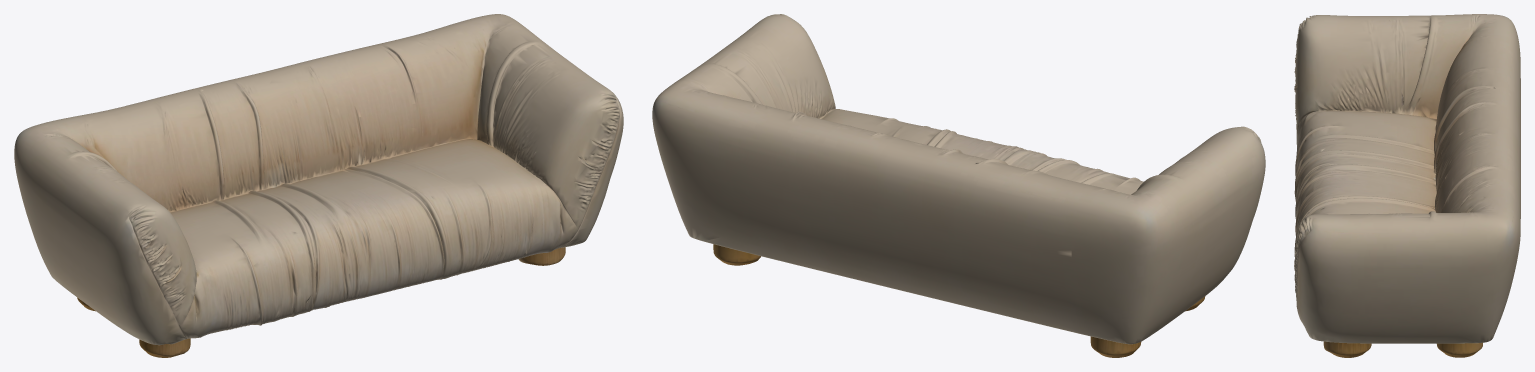
File: 0-cream-pleated-sofa-scaled-opt.glb
3 views of the same model, side by side, from view 1: azimuth 30°, elevation 25°; view 2: azimuth 150°, elevation 25°; view 3: azimuth 270°, elevation 25° (orthographic). The views are drawn at different scales.
Visible parts, largest first — view 1: material; view 2: material; view 3: material.
Boxes of the visible parts, box(x1,y1,x2,y2) form: material: box(14, 14, 623, 357); material: box(652, 14, 1265, 357); material: box(1294, 14, 1520, 357).
Bounding box in the file's own units: 2.58 × 0.8306 × 1.11.
1 material, 1 textured.
